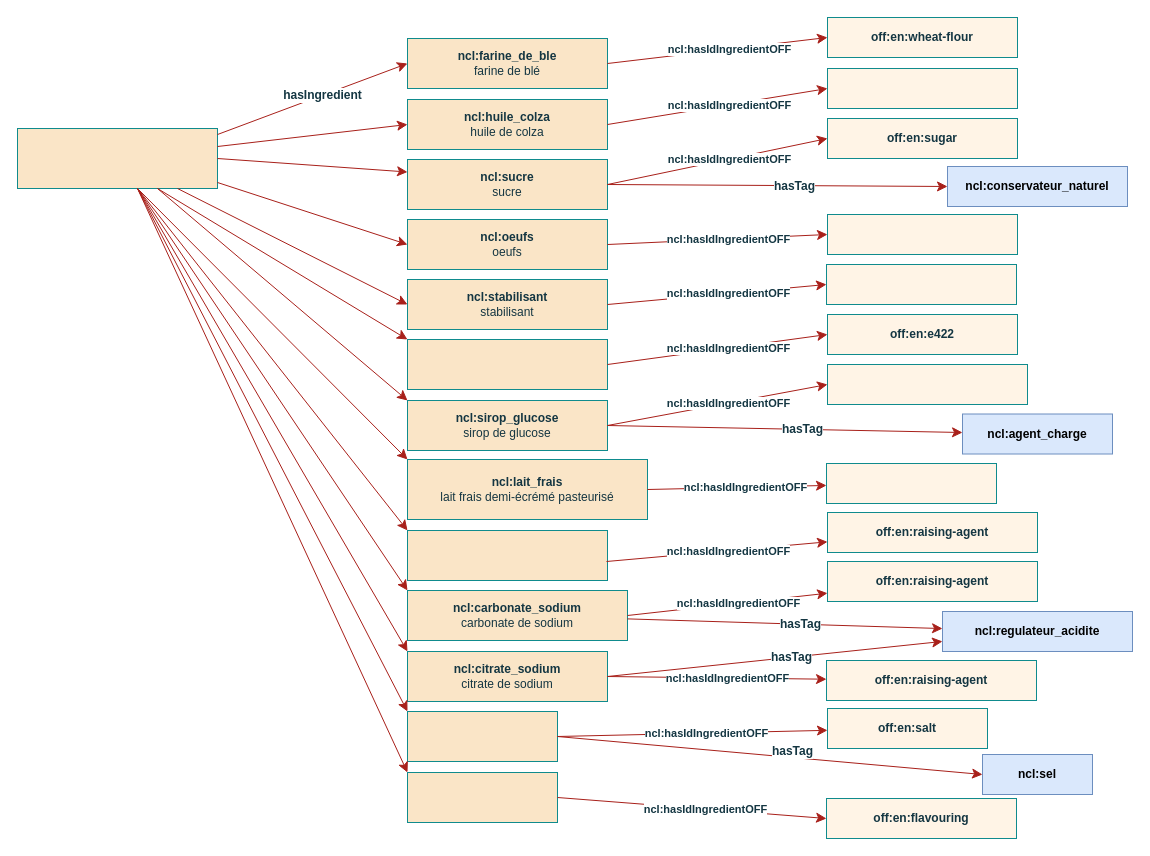
Some shapes in this 1150 by 856 pixel diagram are drawn without their labels. Each missing label, with the box of its shape:
ncl:arome arome: (406, 772, 558, 822)
ncl:glycerol glycérol: (406, 338, 608, 390)
ncl:P-3178530410105 "Petites Madeleines": (16, 128, 218, 188)
ncl:poudres_lever poudres à lever: (406, 530, 608, 580)
ncl:sel sel: (406, 710, 558, 762)
off:en:colza-oil: (826, 68, 1018, 108)
off:en:egg: (826, 214, 1018, 254)
off:en:glucose-syrup: (826, 364, 1028, 404)
off:en:milk: (826, 462, 996, 504)
off:en:stabiliser: (826, 264, 1016, 304)
